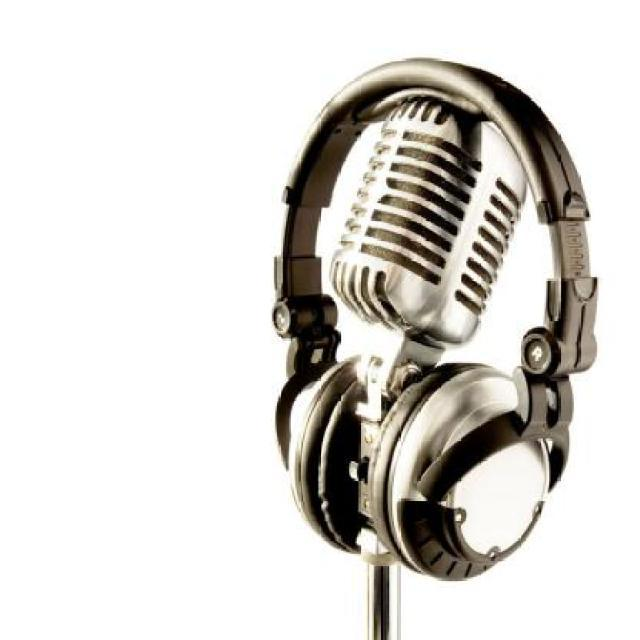earphone: (270, 22, 563, 518)
